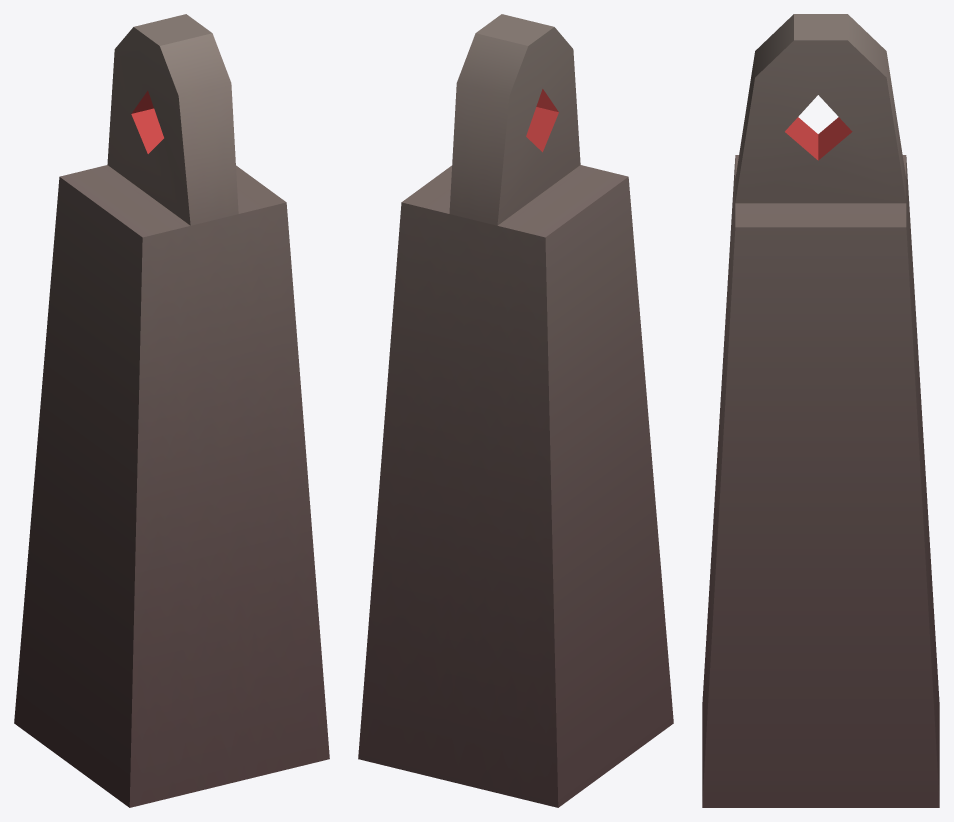
Rendered from poteau_allee.FBX.
The picture shows the model from 3 angles, left to right: view 1: azimuth 30°, elevation 25°; view 2: azimuth 150°, elevation 25°; view 3: azimuth 270°, elevation 25°; orthographic projection. The views are drawn at different scales.
Parts seen in each view (by area): view 1: poteau_allee_LOD00; view 2: poteau_allee_LOD00; view 3: poteau_allee_LOD00.
Part boxes in pixels (bbox=[...]): poteau_allee_LOD00: bbox=[14, 14, 329, 807]; poteau_allee_LOD00: bbox=[358, 14, 673, 807]; poteau_allee_LOD00: bbox=[702, 14, 939, 807].
Size of what is drawn, in the model's own units: 0.4 by 1.36 by 0.4.
